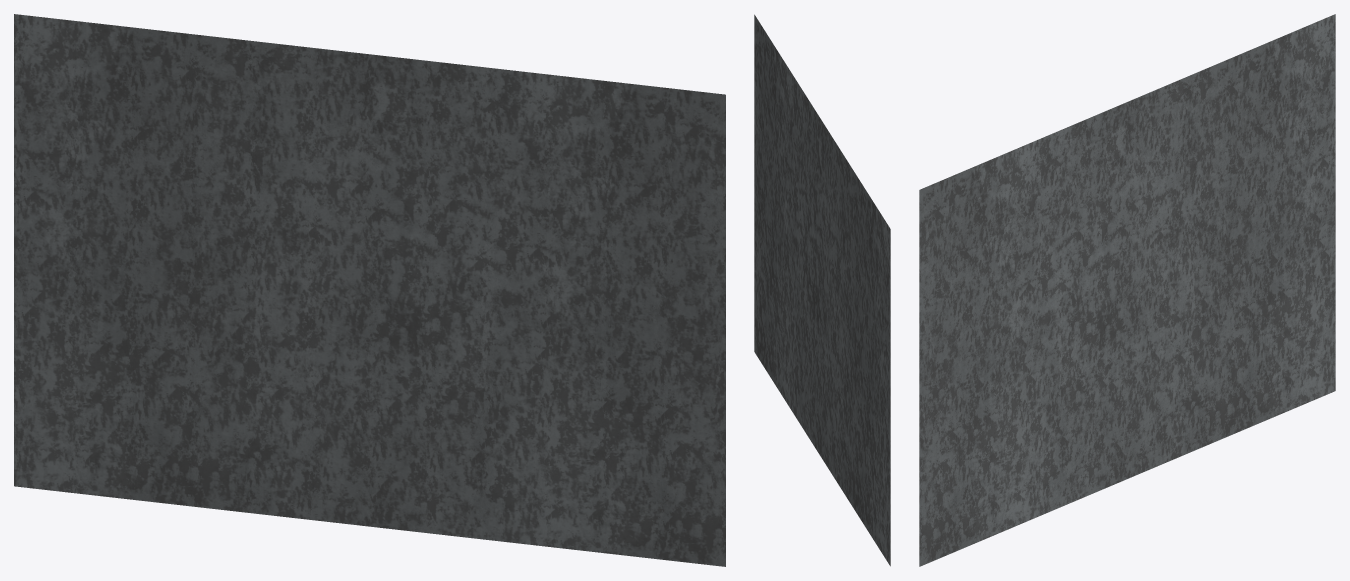
Rendered from angled_tile_.fbx.
3 views of the same model, side by side, from view 1: azimuth 30°, elevation 25°; view 2: azimuth 150°, elevation 25°; view 3: azimuth 270°, elevation 25° (orthographic). The views are drawn at different scales.
Parts seen in each view (by area): view 1: Padding_Low; view 2: Padding_Low; view 3: Padding_Low.
Part boxes in pixels (x1,y1,x2,y2): Padding_Low: [14, 14, 725, 566]; Padding_Low: [754, 14, 890, 566]; Padding_Low: [919, 14, 1335, 566].
Size of the model in its own units: 599 by 599 by 599.
